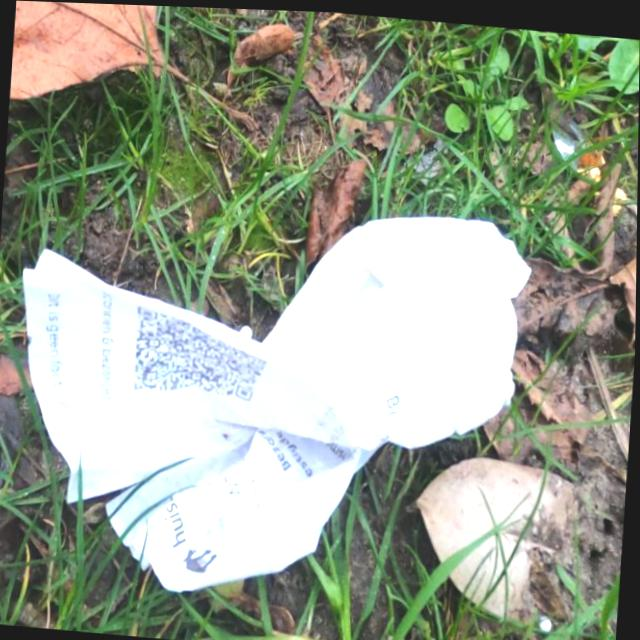Paper: (0, 170, 540, 626)
